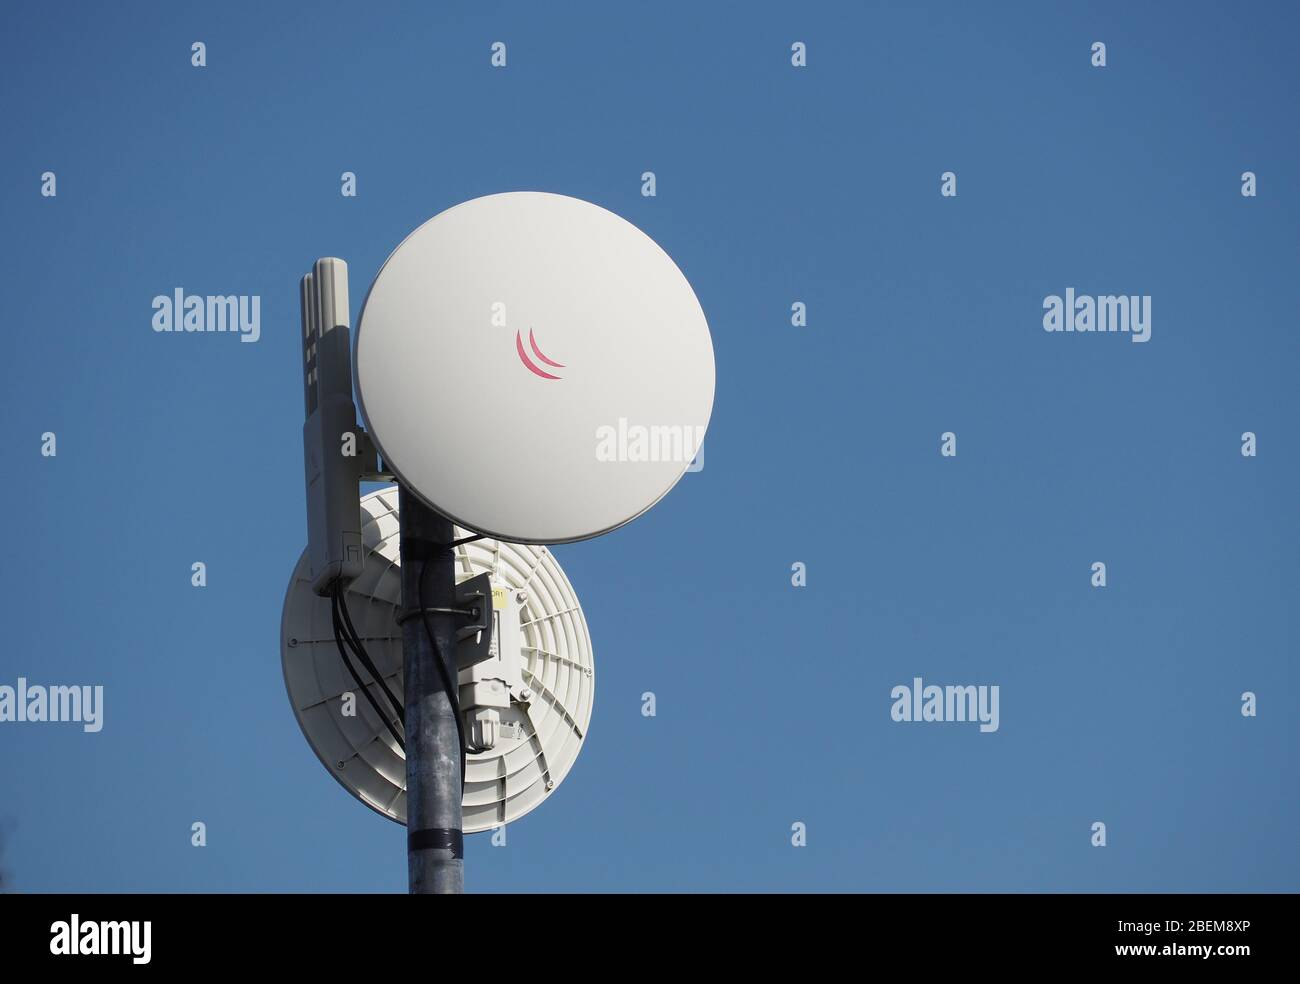ba: (355, 172, 755, 543), (276, 484, 612, 857)
sa: (281, 240, 372, 599)
